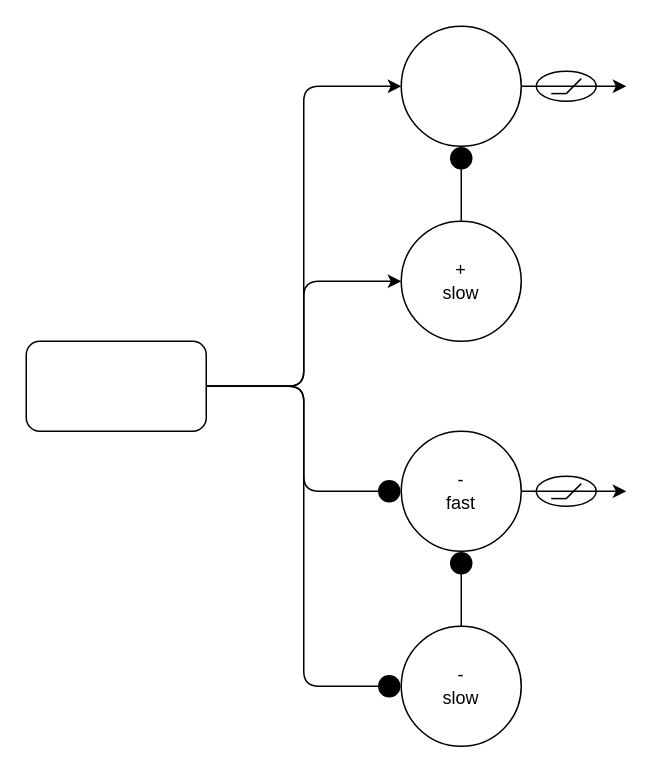
The diagram is 665 pixels wide and 773 high, and some of its shapes have lost their labels. Here are the shapes that lost their labels. From the top down, the centre of each, then its label:
pixel 460 85: + fast
pixel 115 385: Input
